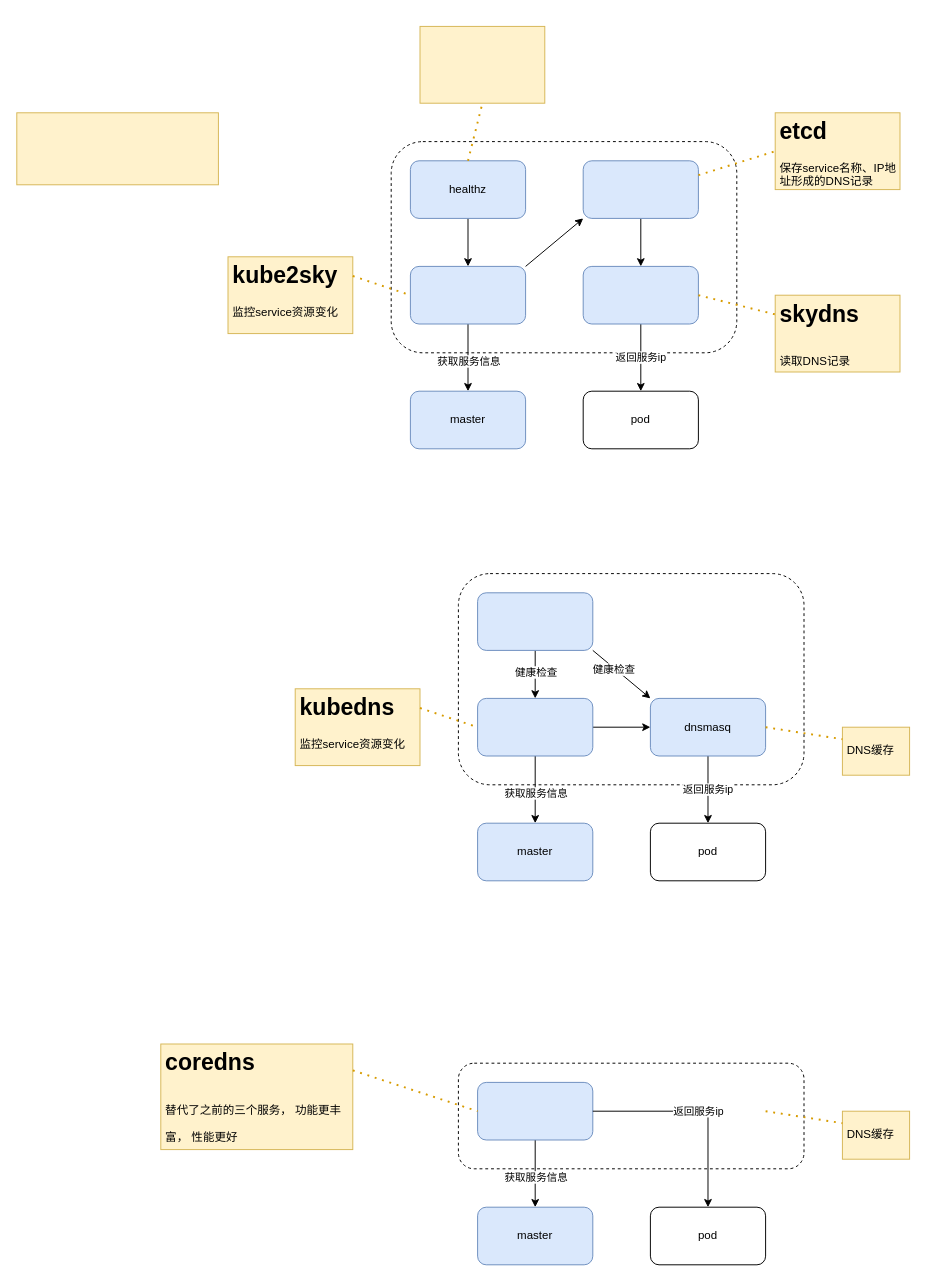
Some shapes in this 926 by 1282 pixel diagram are drawn without their labels. Each missing label, with the box of its shape:
coredns: (477, 1081, 593, 1140)
etcd: (582, 160, 698, 218)
healthz 提供skydns服务的健康检查: (419, 25, 545, 103)
kube2sky: (409, 265, 526, 324)
kubedns: (477, 697, 593, 756)
sidecar: (477, 592, 593, 650)
skydns: (582, 265, 698, 324)
问题 组件太多、通信太多、性能不高: (16, 112, 218, 185)
